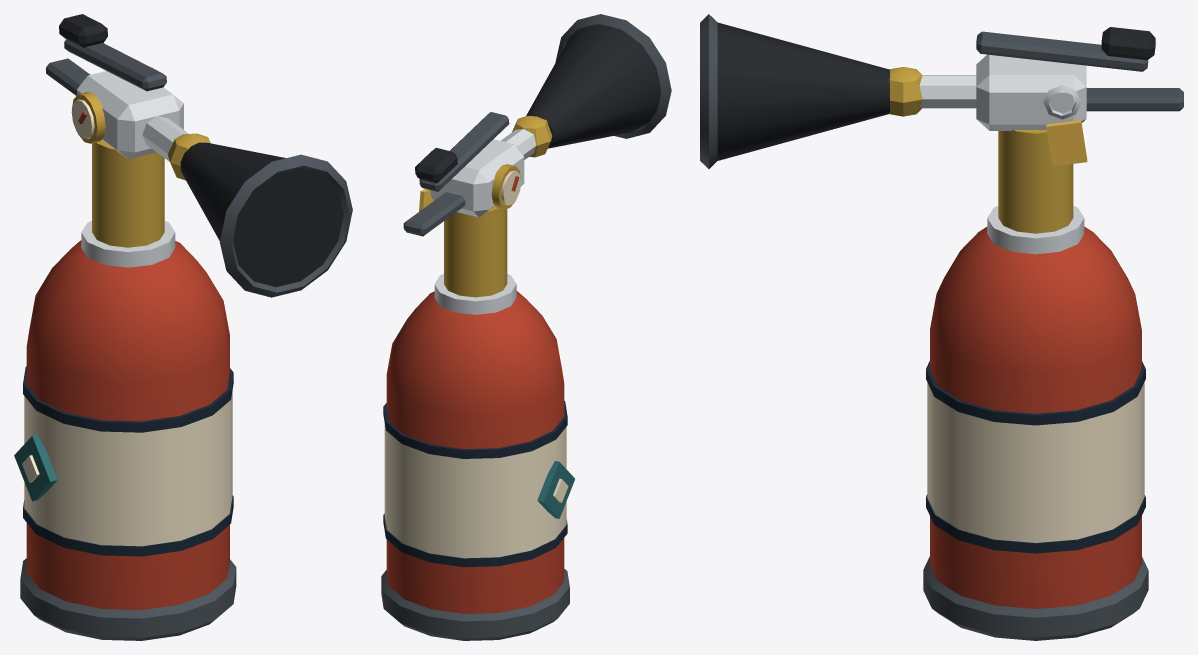
Rendered from Tool_Extinguisher.fbx.
3 renders of one model, left to right at view 1: azimuth 30°, elevation 25°; view 2: azimuth 150°, elevation 25°; view 3: azimuth 270°, elevation 25°, orthographic. The views are drawn at different scales.
Visible parts, largest first — view 1: Tank; view 2: Tank; view 3: Tank.
Part boxes in pixels (box(x1,y1,x2,y2)): Tank: box(14, 14, 352, 640); Tank: box(381, 14, 671, 640); Tank: box(700, 14, 1183, 640).
Bounding box in the file's own units: 1.04 × 2.9 × 2.19.
